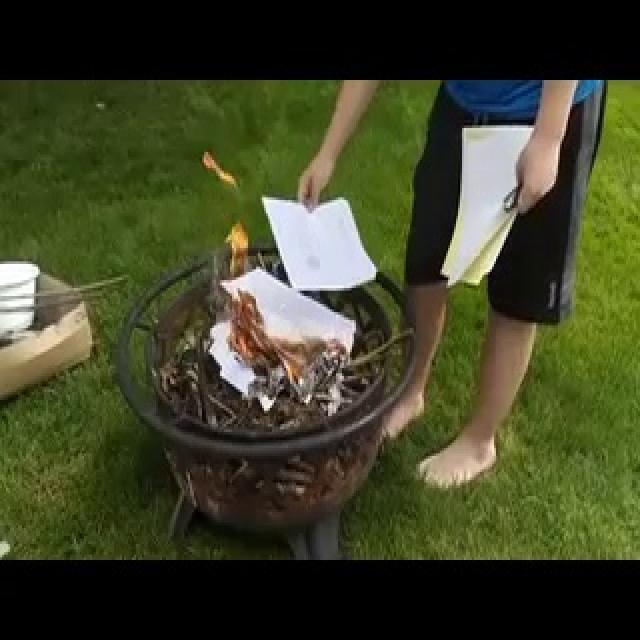fire: (209, 184, 267, 371)
